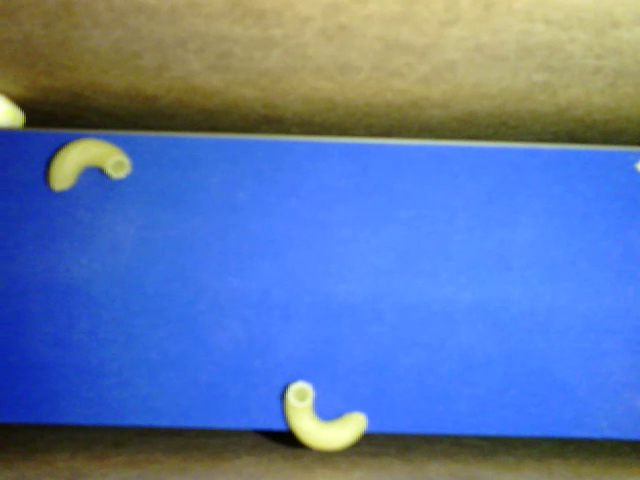elbow: (281, 378, 368, 451), (47, 137, 132, 190)
